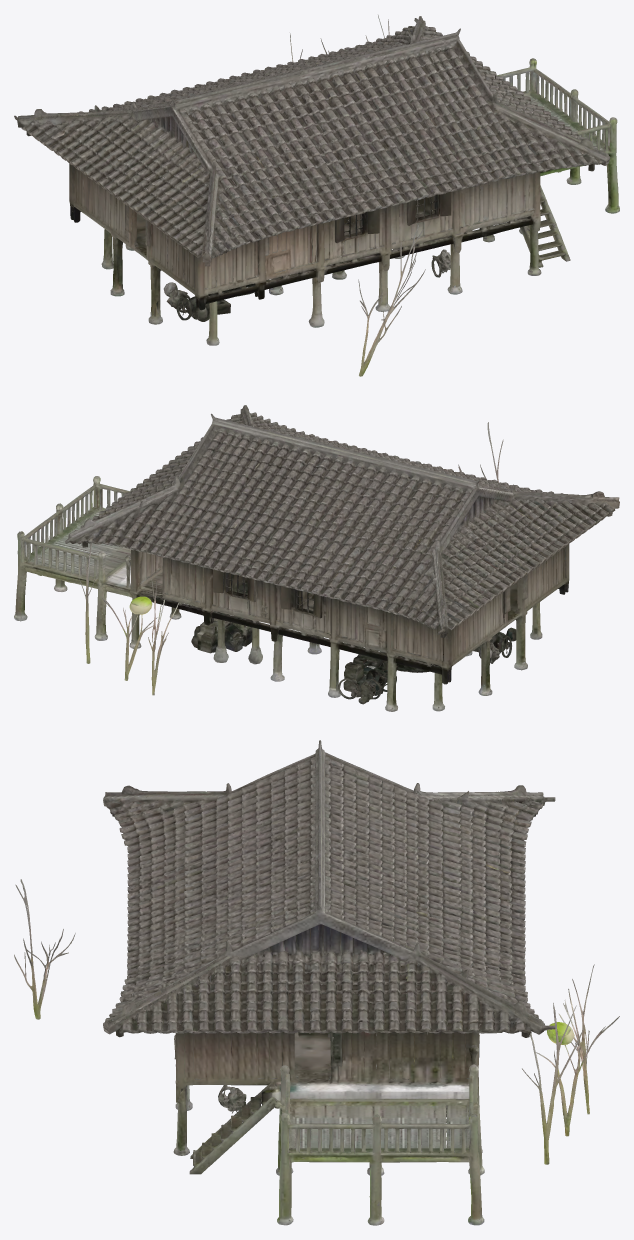
The model's file is bq_stilt.hd.glb.
3 views of the same model, one above another, from view 1: azimuth 30°, elevation 25°; view 2: azimuth 150°, elevation 25°; view 3: azimuth 270°, elevation 25° (orthographic). The views are drawn at different scales.
Parts seen in each view (by area): view 1: mesh_node; view 2: mesh_node; view 3: mesh_node.
Part boxes in pixels (x1,y1,x2,y2): mesh_node: (14,15,619,376); mesh_node: (14,405,619,711); mesh_node: (14,740,619,1225).
Size of the model in its own units: 1.9 by 0.7545 by 1.73.
Materials: 1 (1 with a texture image).
